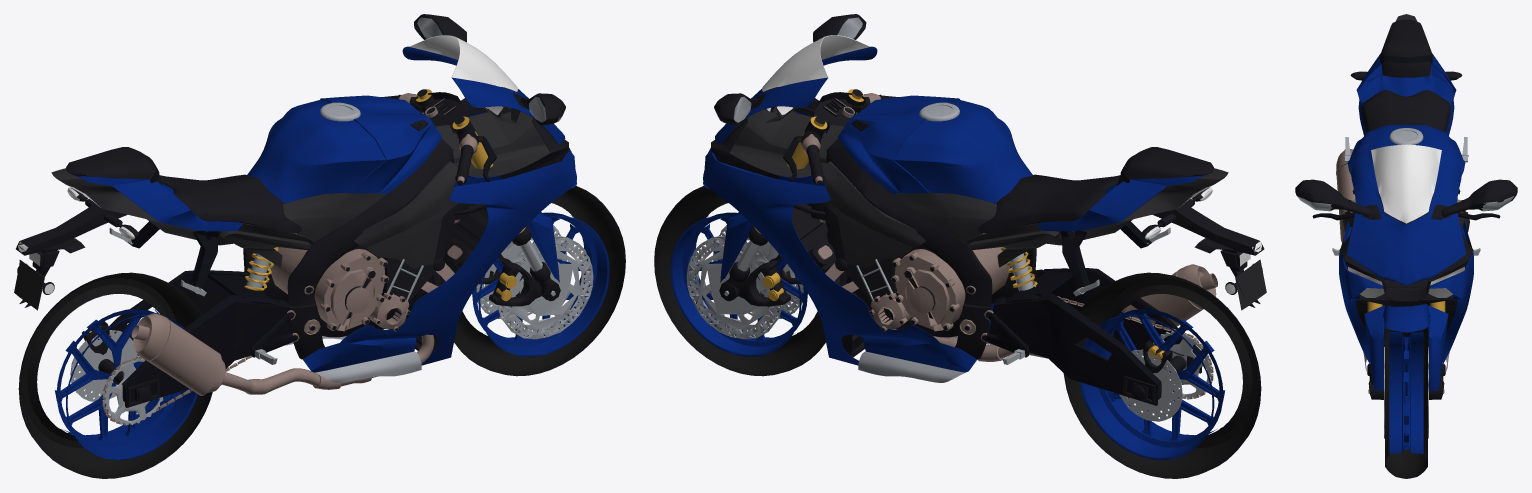
3 views of the same model, side by side, from view 1: azimuth 30°, elevation 25°; view 2: azimuth 150°, elevation 25°; view 3: azimuth 270°, elevation 25° (orthographic). The views are drawn at different scales.
Visible parts, largest first — view 1: body_mesh, rearSpin_tyre_mesh, frontSpin_mesh, rearSpin_mesh, swing_mesh, frontSpin_tyre_mesh, frontCarrier_mesh, steer_mesh; view 2: body_mesh, swing_mesh, rearSpin_mesh, rearSpin_tyre_mesh, frontSpin_mesh, frontSpin_tyre_mesh, frontCarrier_mesh, steer_mesh; view 3: body_mesh, frontSpin_mesh, frontCarrier_mesh, frontSpin_tyre_mesh, steer_mesh.
Boxes of the visible parts, box(x1,y1,x2,y2) form: body_mesh: box(14, 14, 576, 395); rearSpin_tyre_mesh: box(18, 272, 212, 478); frontSpin_mesh: box(472, 206, 609, 356); rearSpin_mesh: box(55, 303, 197, 459); swing_mesh: box(82, 270, 293, 425); frontSpin_tyre_mesh: box(454, 186, 625, 376); frontCarrier_mesh: box(478, 182, 576, 306); steer_mesh: box(381, 89, 525, 233); body_mesh: box(703, 14, 1266, 382); swing_mesh: box(989, 268, 1213, 405); rearSpin_mesh: box(1079, 303, 1225, 460); rearSpin_tyre_mesh: box(1063, 272, 1261, 478); frontSpin_mesh: box(670, 210, 807, 356); frontSpin_tyre_mesh: box(654, 186, 825, 376); frontCarrier_mesh: box(703, 182, 801, 306); steer_mesh: box(754, 89, 898, 233); body_mesh: box(1295, 14, 1517, 372); frontSpin_mesh: box(1384, 331, 1428, 453); frontCarrier_mesh: box(1364, 304, 1448, 399); frontSpin_tyre_mesh: box(1385, 326, 1427, 478); steer_mesh: box(1312, 199, 1500, 312).
Bounding box in the file's own units: 1.99 × 1.11 × 0.762.
